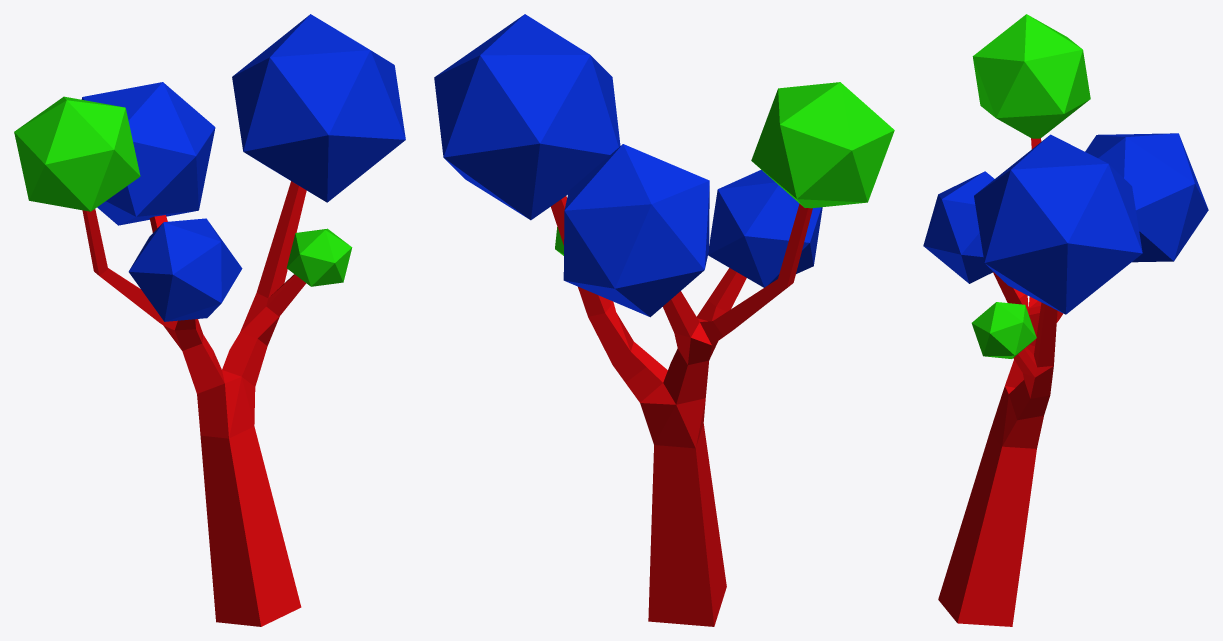
File: Tree4.fbx
The picture shows the model from 3 angles, left to right: view 1: azimuth 30°, elevation 25°; view 2: azimuth 150°, elevation 25°; view 3: azimuth 270°, elevation 25°; orthographic projection. The views are drawn at different scales.
Visible parts, largest first — view 1: Tree4_LOD0; view 2: Tree4_LOD0; view 3: Tree4_LOD0.
Part boxes in pixels (left/top/right/bottom): Tree4_LOD0: left=14, top=14, right=405, bottom=626; Tree4_LOD0: left=434, top=14, right=894, bottom=626; Tree4_LOD0: left=923, top=14, right=1208, bottom=626.
Size of what is drawn, in the model's own units: 333 by 447 by 220.
